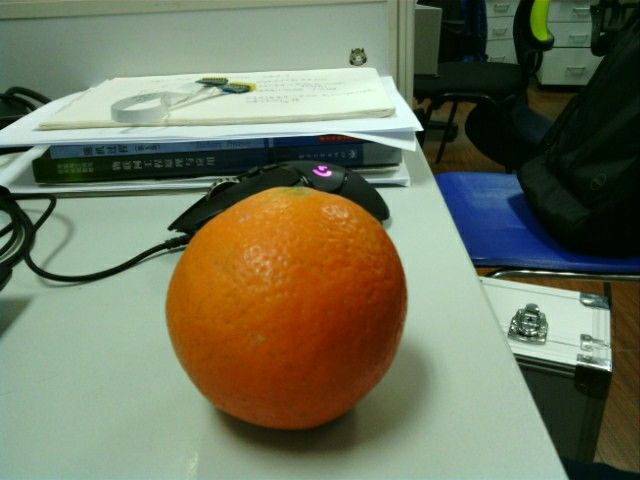normal_orange: (166, 187, 409, 426)
